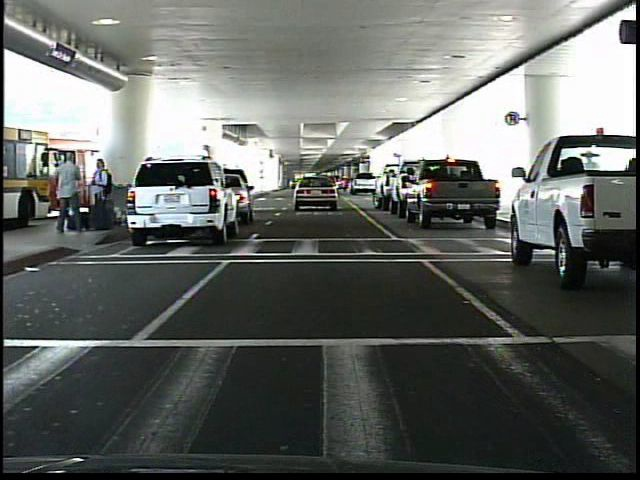person: (51, 151, 84, 234), (87, 155, 113, 234)
